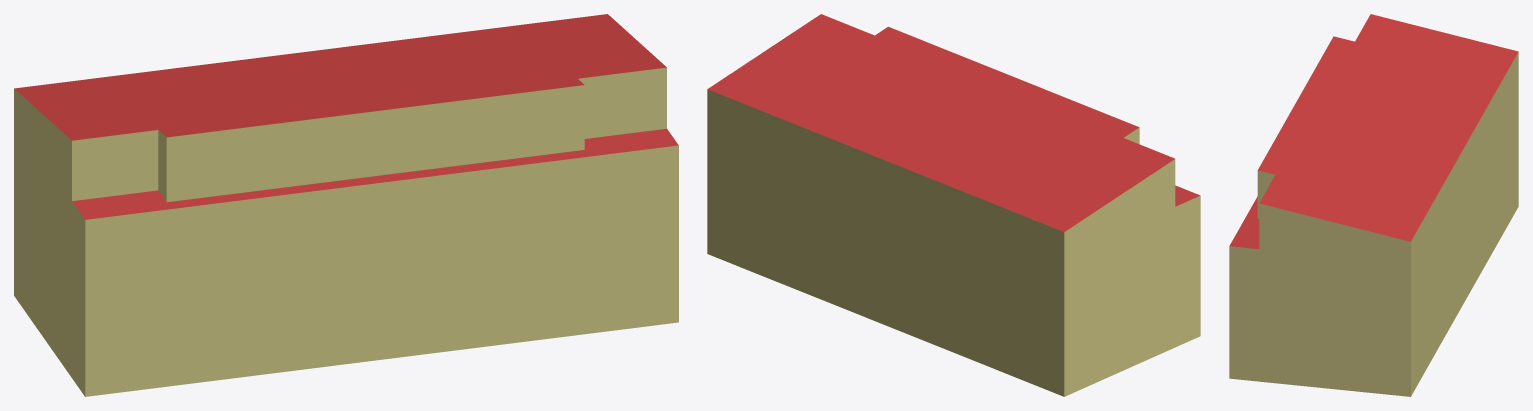
3 renders of one model, left to right at view 1: azimuth 30°, elevation 25°; view 2: azimuth 150°, elevation 25°; view 3: azimuth 270°, elevation 25°, orthographic. The views are drawn at different scales.
Bounding box in the file's own units: 31.66 × 18.54 × 12.79.
